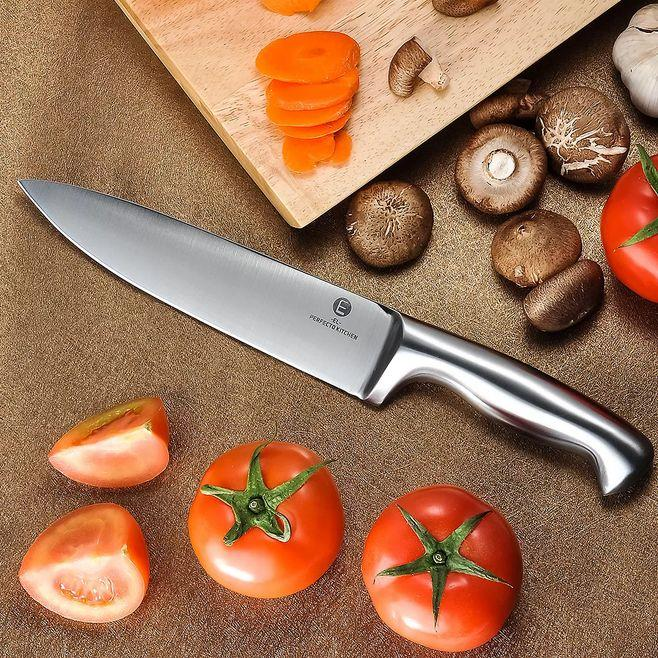knife: (11, 154, 652, 538)
